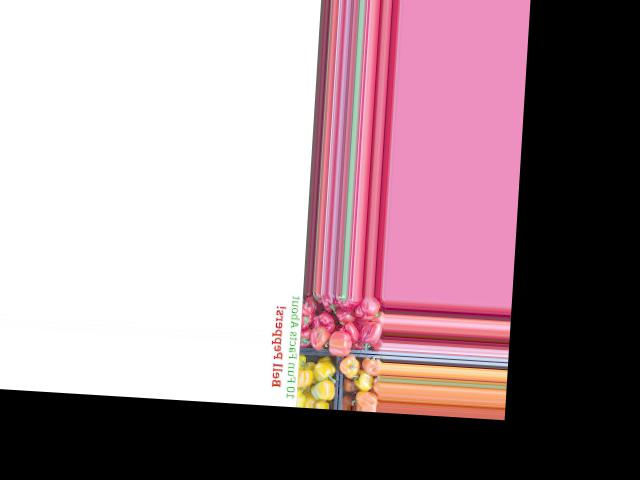bell_pepper: (297, 303, 318, 335)
